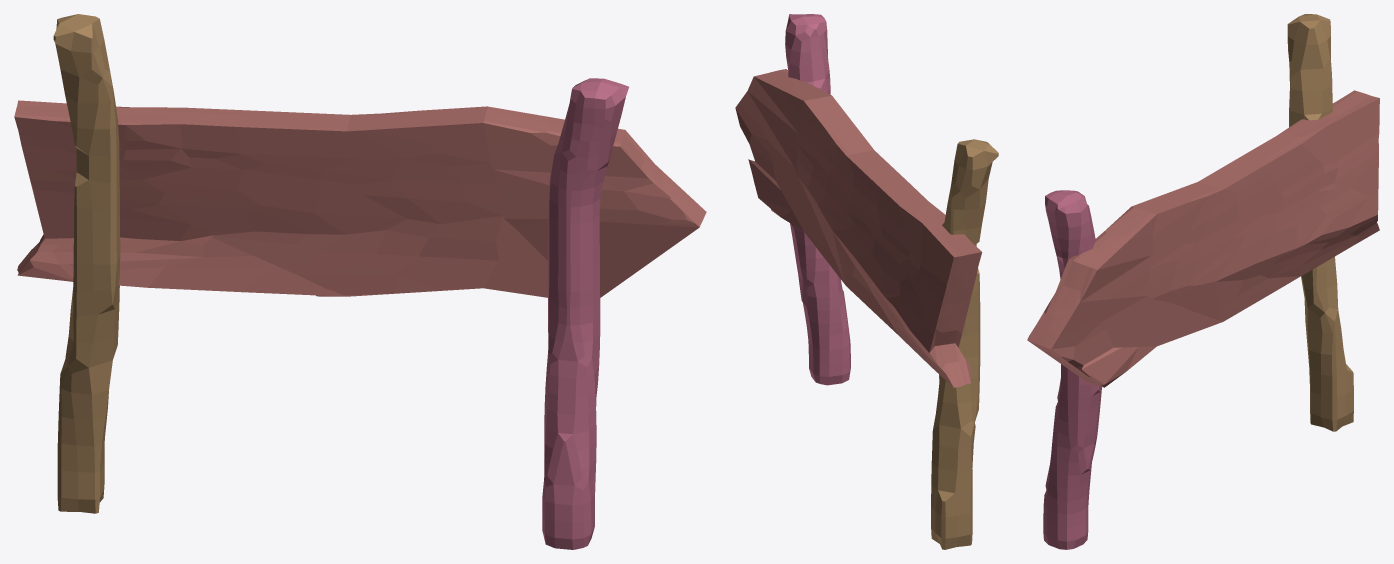
File: schild.fbx
3 views of the same model, side by side, from view 1: azimuth 30°, elevation 25°; view 2: azimuth 150°, elevation 25°; view 3: azimuth 270°, elevation 25° (orthographic). The views are drawn at different scales.
Visible parts, largest first — view 1: Cube.005, Cylinder.014, Cylinder.015; view 2: Cube.005, Cylinder.015, Cylinder.014; view 3: Cube.005, Cylinder.015, Cylinder.014.
Part boxes in pixels (bbox=[...]): Cube.005: bbox=[14, 100, 706, 297]; Cylinder.014: bbox=[542, 78, 628, 549]; Cylinder.015: bbox=[53, 14, 120, 513]; Cube.005: bbox=[735, 69, 982, 387]; Cylinder.015: bbox=[931, 139, 998, 549]; Cylinder.014: bbox=[785, 14, 850, 385]; Cube.005: bbox=[1027, 90, 1379, 387]; Cylinder.015: bbox=[1287, 14, 1353, 431]; Cylinder.014: bbox=[1043, 190, 1101, 549].
Size of the model in its own units: 116 by 110 by 88.53.
